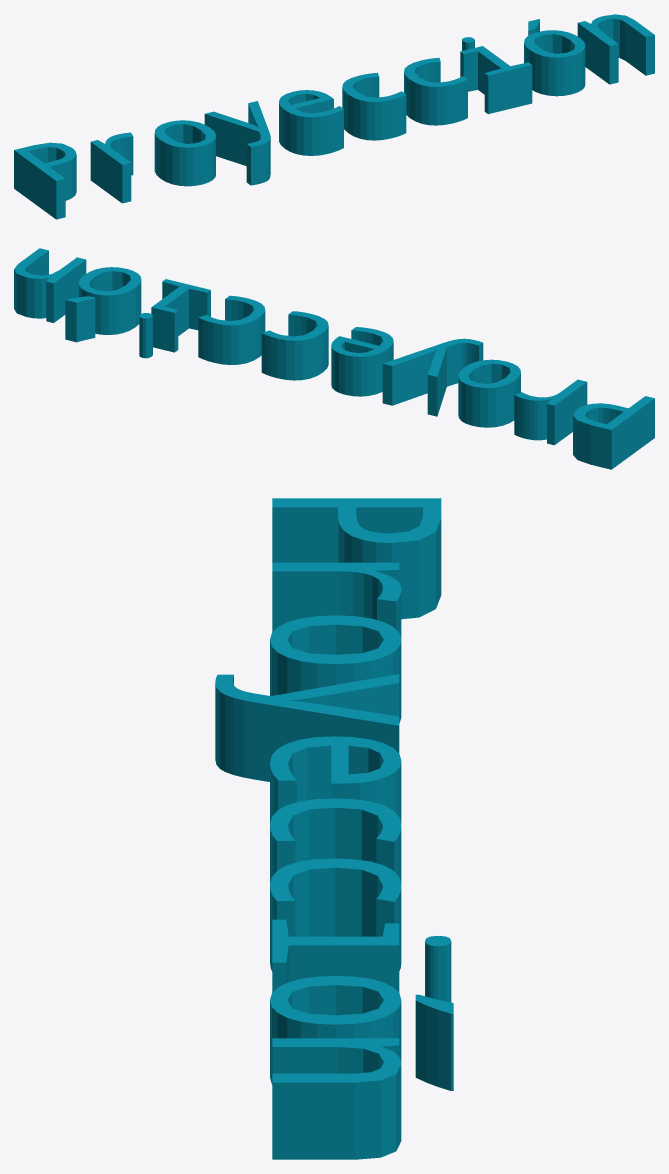
The model's file is proyeccion-texto.glb.
3 renders of one model, top to bottom at view 1: azimuth 30°, elevation 25°; view 2: azimuth 150°, elevation 25°; view 3: azimuth 270°, elevation 25°, orthographic. The views are drawn at different scales.
Visible parts, largest first — view 1: Mesh_Mesh_head_geo.001_lambert2SG.001; view 2: Mesh_Mesh_head_geo.001_lambert2SG.001; view 3: Mesh_Mesh_head_geo.001_lambert2SG.001.
Boxes of the visible parts, <box> form: Mesh_Mesh_head_geo.001_lambert2SG.001: <box>14,14,654,219</box>; Mesh_Mesh_head_geo.001_lambert2SG.001: <box>14,248,654,469</box>; Mesh_Mesh_head_geo.001_lambert2SG.001: <box>215,498,453,1159</box>.
Bounding box in the file's own units: 162 × 10 × 27.96.
